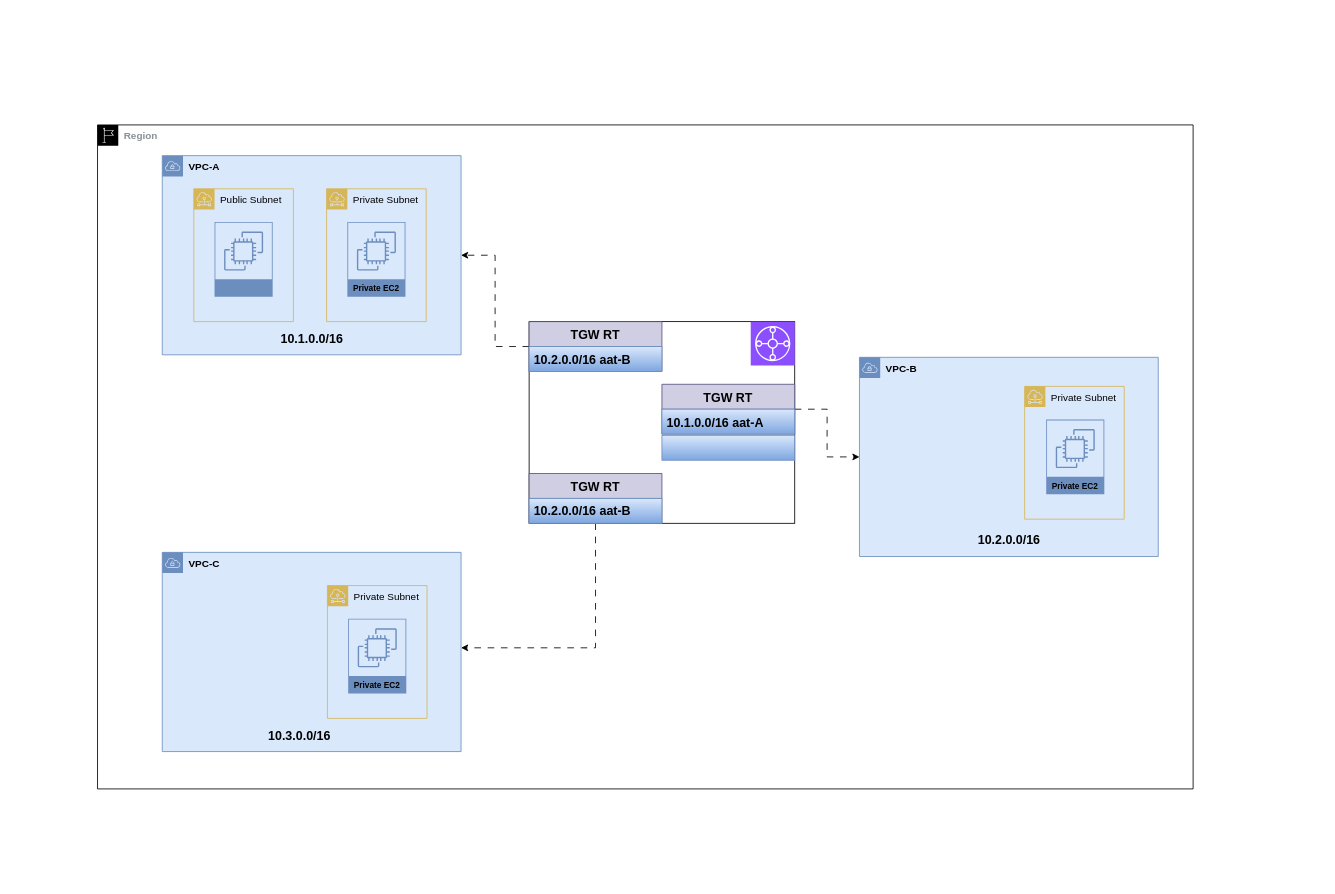
Some shapes in this 1335 by 894 pixel diagram are drawn without their labels. Here are the shapes that lost their labels. From the top down, the centre of each, then its label:
At pixel 243 259: "Bastion EC2".
At pixel 728 447: "10.3.0.0/16 aat-C".
